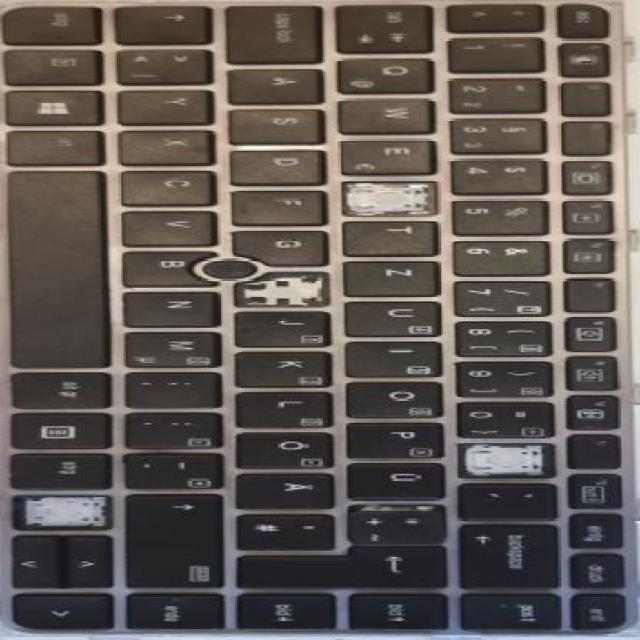Keyboard problems: (235, 272, 328, 306), (458, 445, 555, 477), (17, 497, 109, 528), (345, 183, 435, 214)
